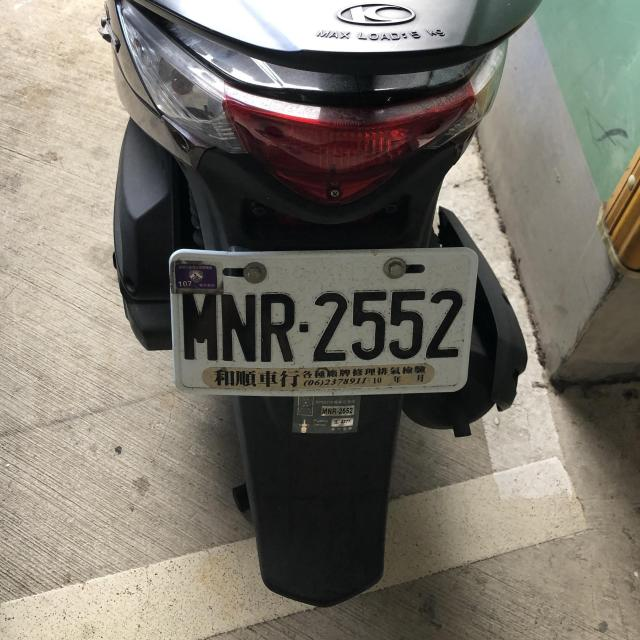W: (168, 248, 475, 397)
